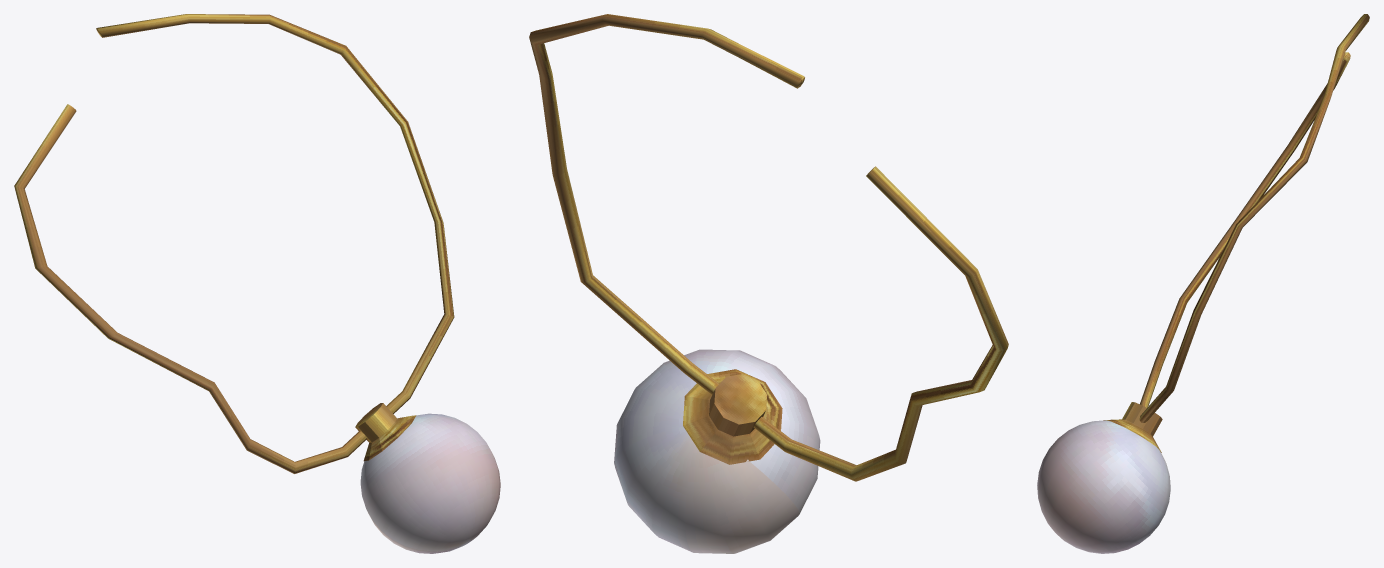
The model's file is sirena_amulet.fbx.
3 renders of one model, left to right at view 1: azimuth 30°, elevation 25°; view 2: azimuth 150°, elevation 25°; view 3: azimuth 270°, elevation 25°, orthographic. The views are drawn at different scales.
Visible parts, largest first — view 1: sirena_amulet; view 2: sirena_amulet; view 3: sirena_amulet.
Part boxes in pixels (x1=…): sirena_amulet: x1=14, y1=14, x2=500, y2=553; sirena_amulet: x1=529, y1=14, x2=1008, y2=553; sirena_amulet: x1=1037, y1=14, x2=1369, y2=553.
Size of the model in its own units: 34.8 by 43.66 by 29.47.
2 materials, 2 textured.
